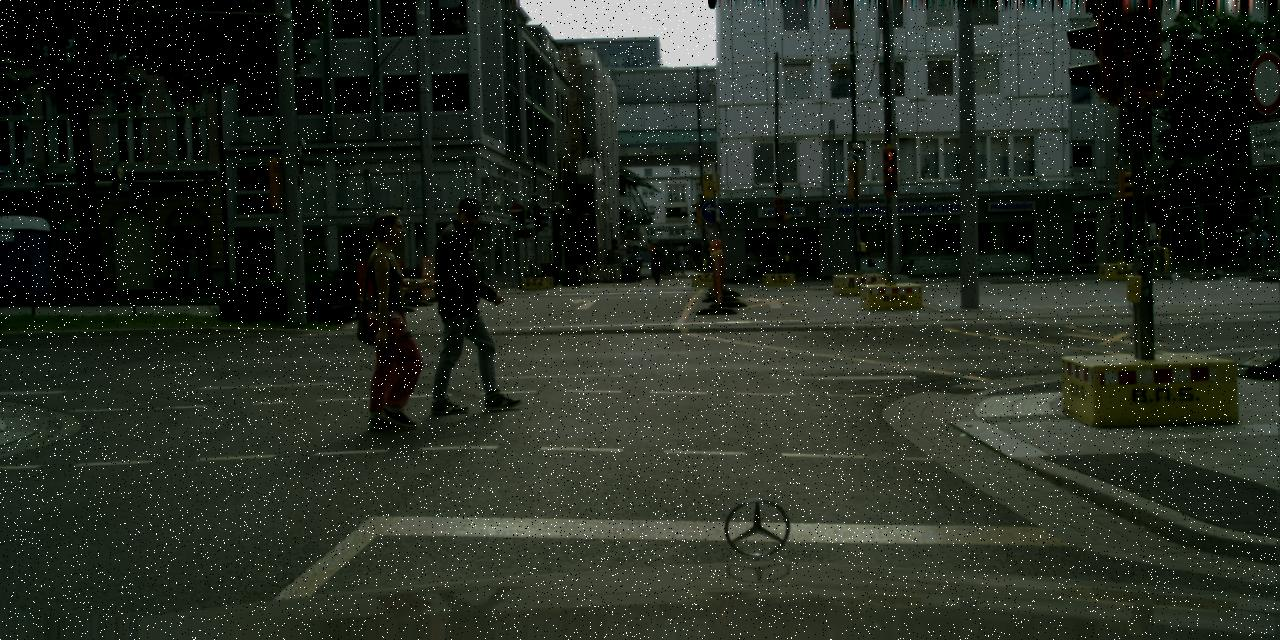ped: (346, 212, 434, 426), (428, 198, 514, 408), (648, 248, 664, 285), (679, 257, 687, 275), (698, 256, 703, 270), (707, 253, 710, 269)
